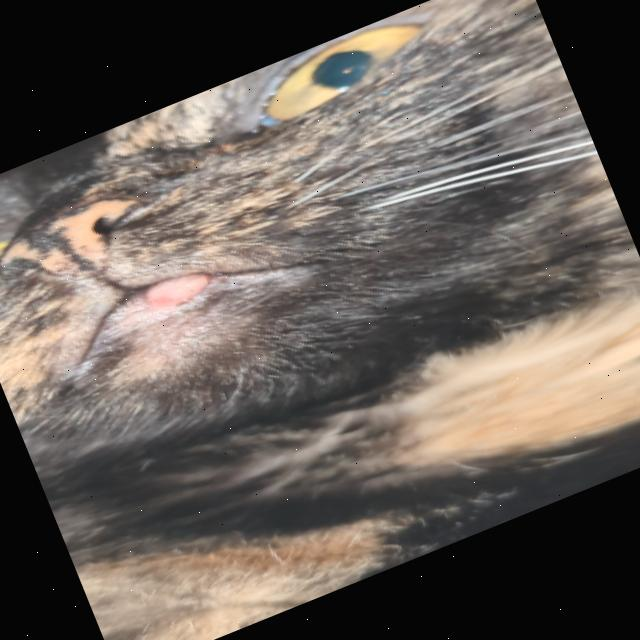cat-lump-and-bump: (130, 256, 231, 322)
